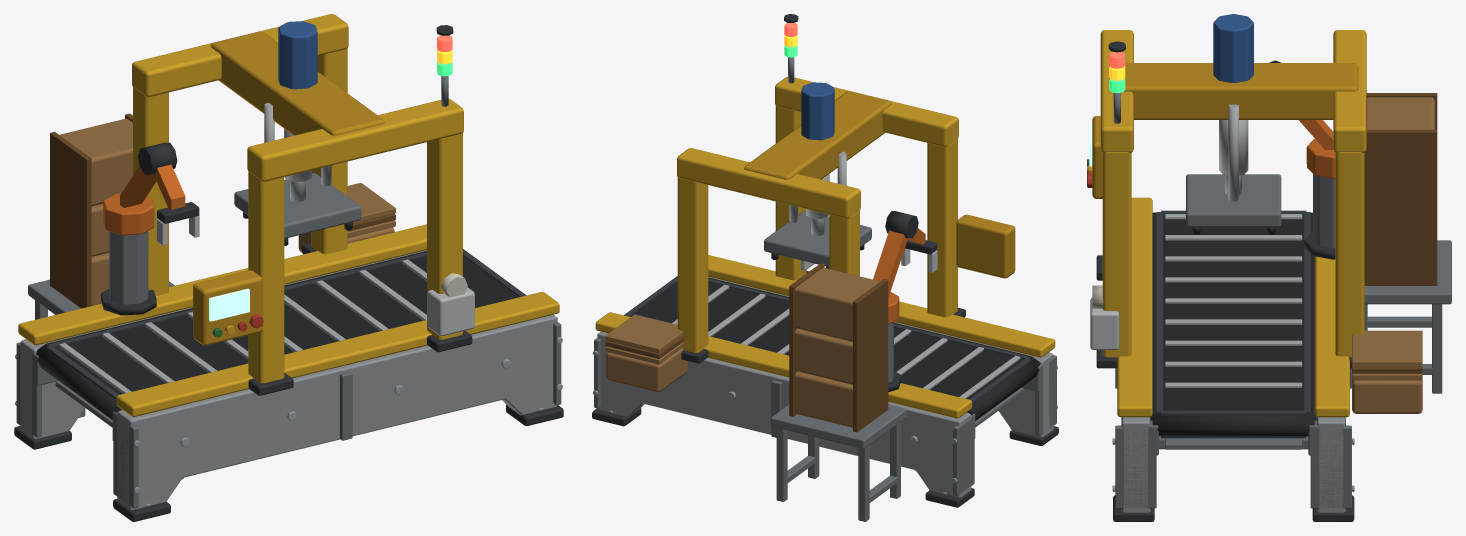
File: fw_packer.glb
3 views of the same model, side by side, from view 1: azimuth 30°, elevation 25°; view 2: azimuth 150°, elevation 25°; view 3: azimuth 270°, elevation 25° (orthographic). The views are drawn at different scales.
Visible parts, largest first — view 1: prism, belt, block.002, block.061, block.059, block.009, block.051, block.055, block.060, block.053, block.048, block.062 (+28 smaller); view 2: prism.001, belt, block.061, block.060, block.057, block.002, block.051, block.009, block.048, block.059, block, block.035 (+21 smaller); view 3: belt, block.061, block.057, block.002, block.055, block.062, block.009, block.050, block.047, block.044, cyl.002, block.060 (+38 smaller).
Part boxes in pixels (x1=…): prism: x1=117, y1=314, x2=557, y2=509; belt: x1=45, y1=251, x2=519, y2=394; block.002: x1=116, y1=292, x2=559, y2=416; block.061: x1=211, y1=31, x2=384, y2=135; block.059: x1=247, y1=99, x2=463, y2=181; block.009: x1=18, y1=224, x2=426, y2=345; block.051: x1=248, y1=171, x2=284, y2=383; block.055: x1=427, y1=133, x2=462, y2=339; block.060: x1=132, y1=14, x2=348, y2=96; block.053: x1=133, y1=87, x2=168, y2=295; block.048: x1=59, y1=118, x2=132, y2=206; block.062: x1=234, y1=173, x2=361, y2=238; prism.001: x1=597, y1=331, x2=971, y2=497; belt: x1=630, y1=277, x2=1032, y2=399; block.061: x1=744, y1=91, x2=891, y2=179; block.060: x1=677, y1=148, x2=860, y2=218; block.057: x1=677, y1=177, x2=708, y2=352; block.002: x1=708, y1=255, x2=1055, y2=357; block.051: x1=927, y1=138, x2=957, y2=317; block.009: x1=595, y1=312, x2=972, y2=418; block.048: x1=794, y1=267, x2=880, y2=341; block.059: x1=775, y1=76, x2=958, y2=146; block: x1=956, y1=214, x2=1015, y2=278; block.035: x1=770, y1=404, x2=906, y2=448; belt: x1=1150, y1=213, x2=1316, y2=420; block.061: x1=1109, y1=63, x2=1358, y2=119; block.057: x1=1335, y1=152, x2=1364, y2=357; block.002: x1=1117, y1=197, x2=1152, y2=417; block.055: x1=1102, y1=152, x2=1131, y2=357; block.062: x1=1186, y1=174, x2=1281, y2=227; block.009: x1=1314, y1=256, x2=1349, y2=417; block.050: x1=1364, y1=129, x2=1437, y2=183; block.047: x1=1364, y1=183, x2=1437, y2=234; block.044: x1=1364, y1=234, x2=1437, y2=285; cyl.002: x1=1152, y1=413, x2=1314, y2=436; block.060: x1=1333, y1=30, x2=1366, y2=152.
Bounding box in the file's own units: 2.42 × 2.23 × 1.75.
